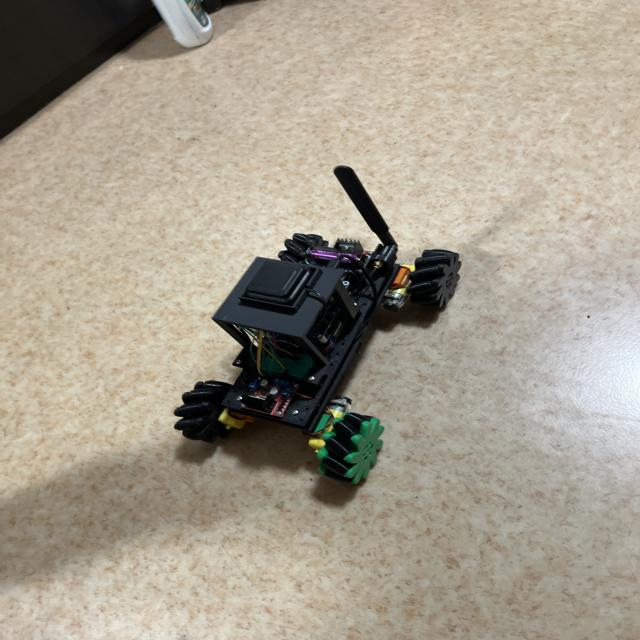robot: (174, 166, 461, 484)
